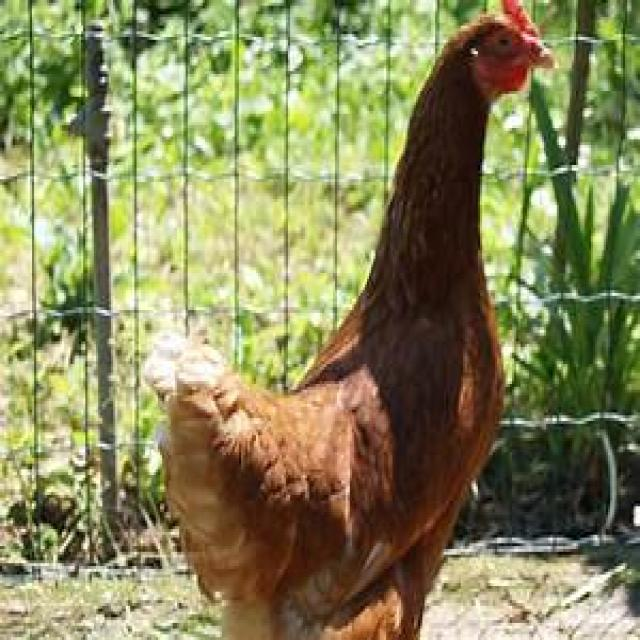animal: (140, 3, 554, 640)
